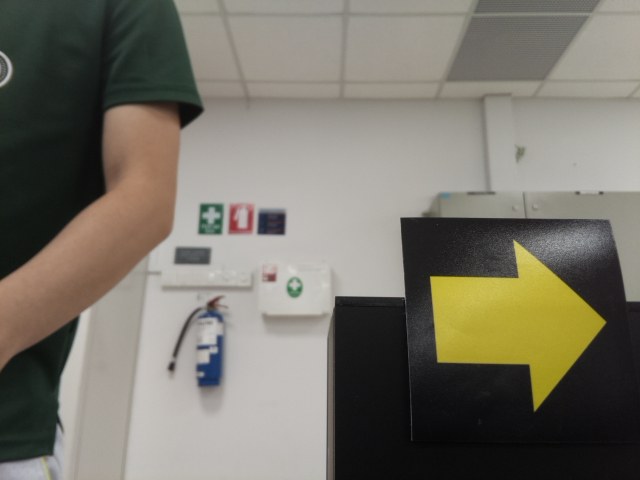right: (412, 239, 614, 416)
